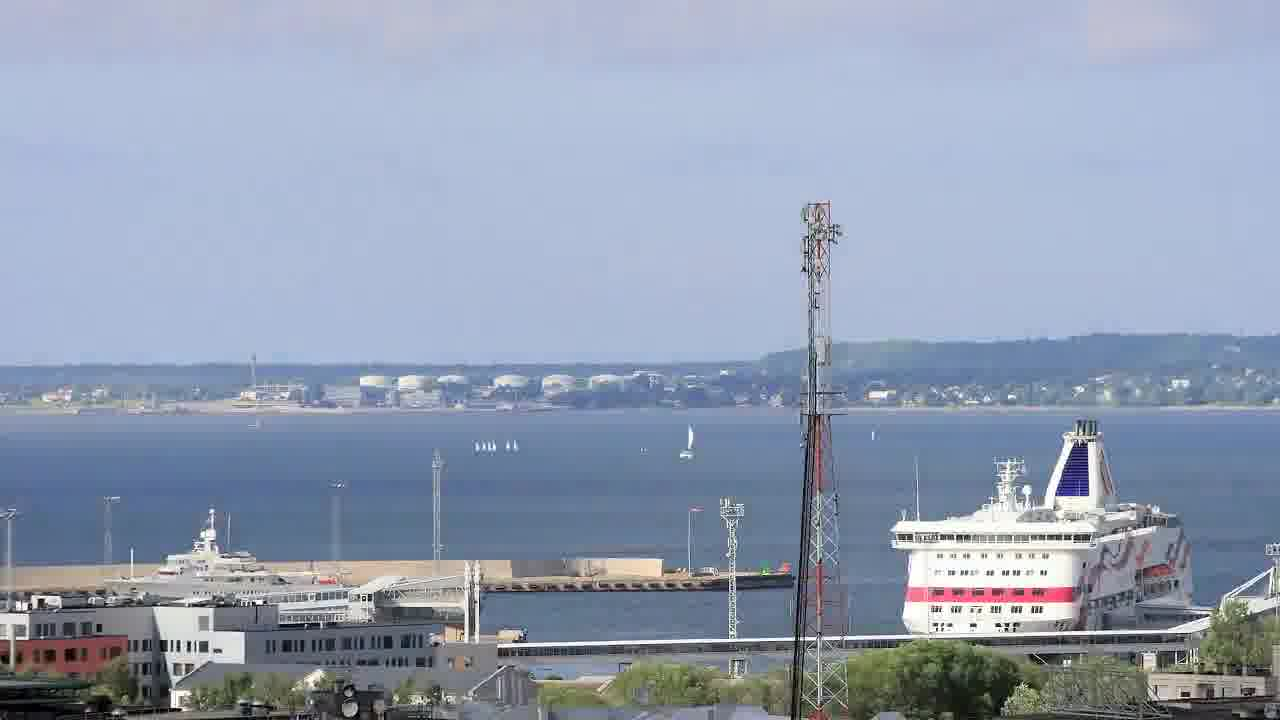type-2: (655, 407, 715, 467)
type-3: (868, 415, 1225, 638), (84, 537, 359, 610)
